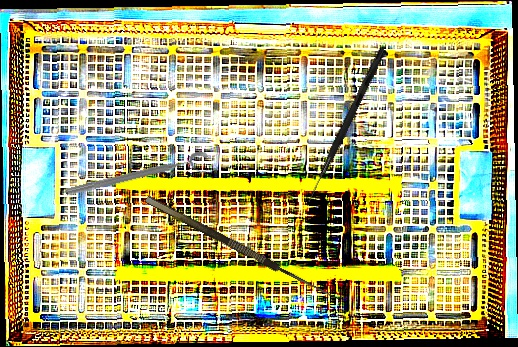Fixation Ring: (64, 149, 213, 208)
Hook Surgical: (144, 185, 347, 305), (305, 46, 387, 205)
